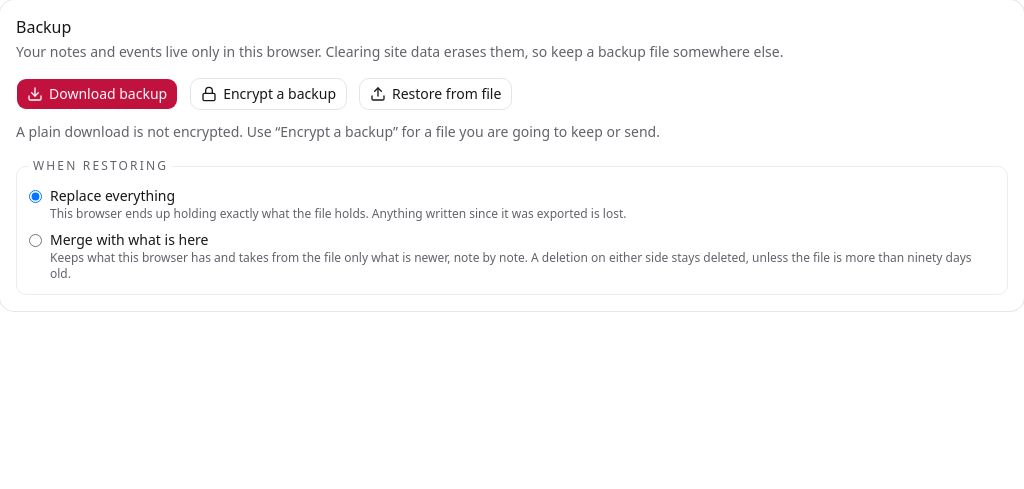
Test: BackupCard › backs out of encrypting without exporting
The image size is (1024, 489).
Click the button "Encrypt a backup": (269, 94) x1=190 y1=78 x2=347 y2=110
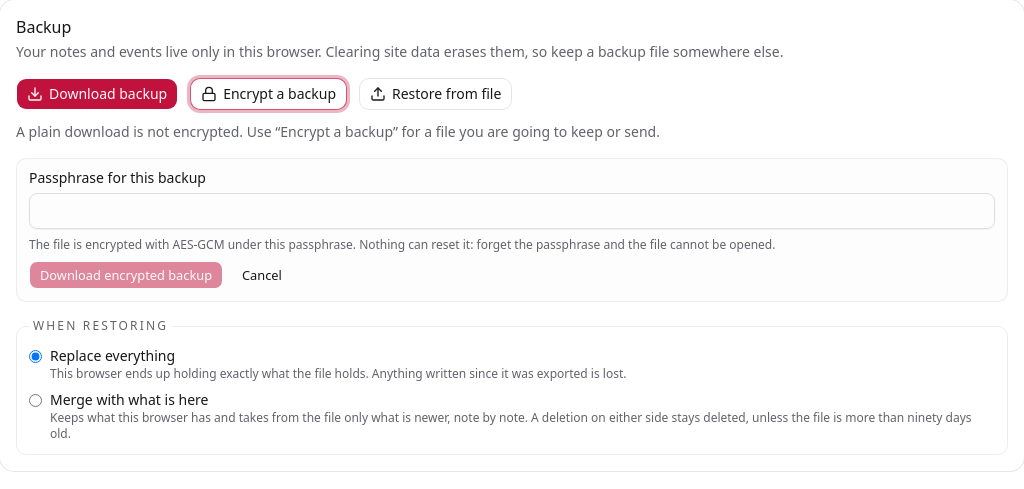
Click the button "Cancel": (262, 275) x1=231 y1=261 x2=293 y2=289
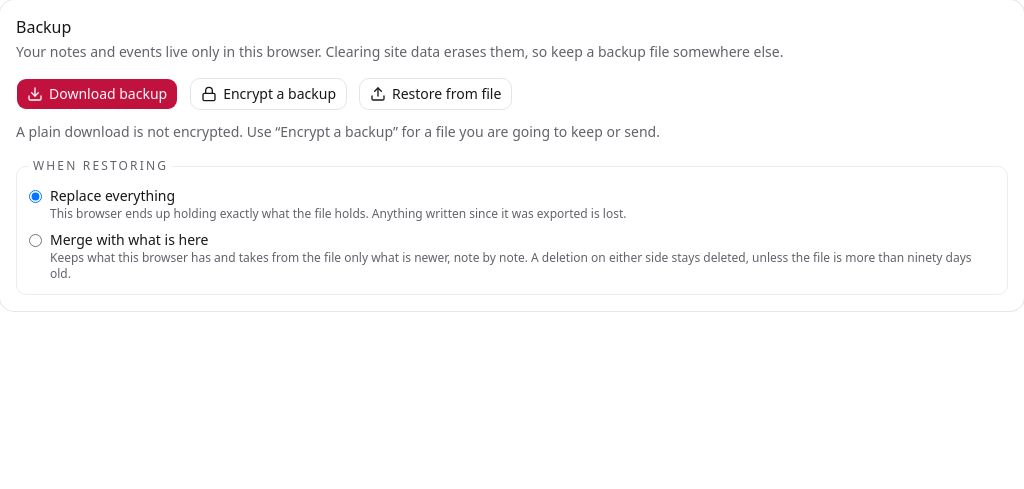
Check: the label labelled "Passphrase for this backup" is gone
